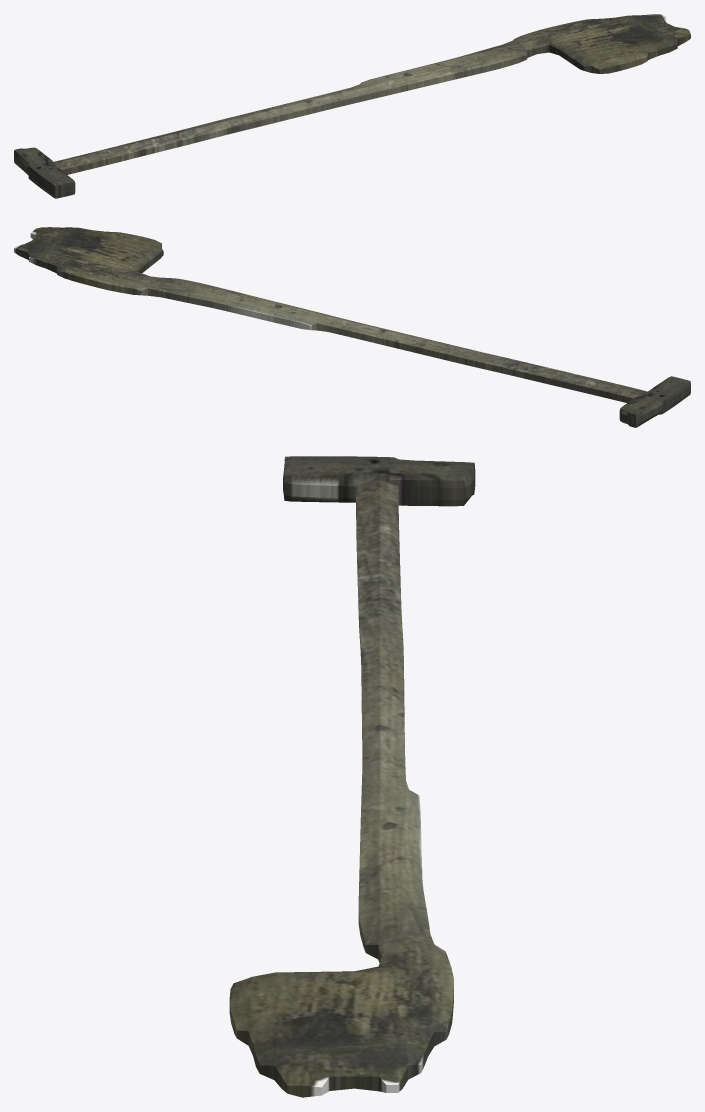
Rendered from shovel.fbx.
The picture shows the model from 3 angles, top to bottom: view 1: azimuth 30°, elevation 25°; view 2: azimuth 150°, elevation 25°; view 3: azimuth 270°, elevation 25°; orthographic projection. The views are drawn at different scales.
Visible parts, largest first — view 1: shov1, shov2; view 2: shov1, shov2; view 3: shov1, shov2.
Part boxes in pixels (left/top/right/bottom): shov1: left=53, top=14, right=690, bottom=174; shov2: left=14, top=147, right=75, bottom=198; shov1: left=14, top=227, right=647, bottom=402; shov2: left=619, top=376, right=690, bottom=427; shov1: left=229, top=477, right=453, bottom=1097; shov2: left=283, top=456, right=475, bottom=506.
Bounding box in the file's own units: 454 × 9.18 × 75.66.
Materials: 2 (2 with a texture image).
